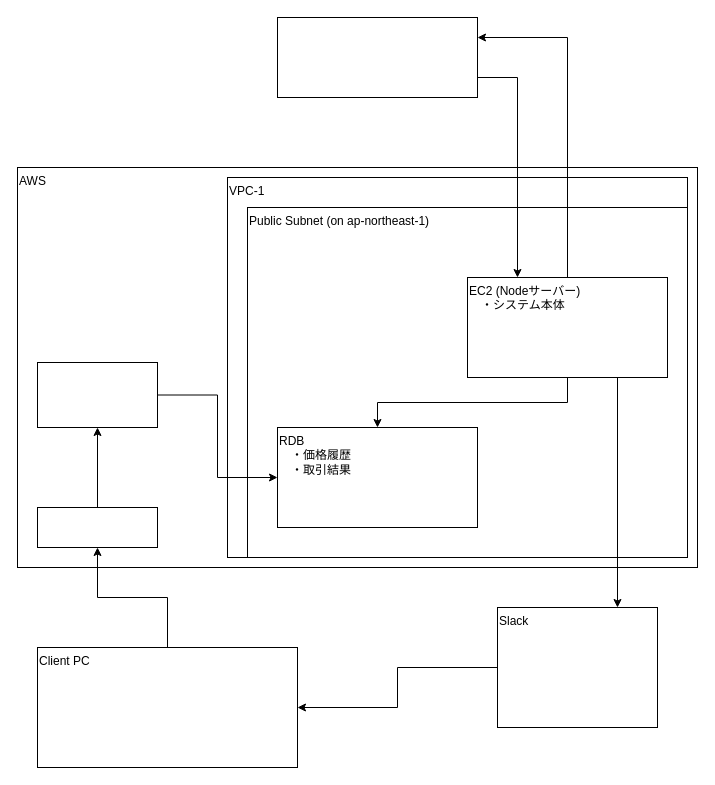
The diagram is 715 pixels wide and 785 high, and some of its shapes have lost their labels. Each missing label, with the centre of its shape:
API Gateway: (97,527)
Coincheck: (377,57)
Lambda RDBのRead操作: (97,395)
